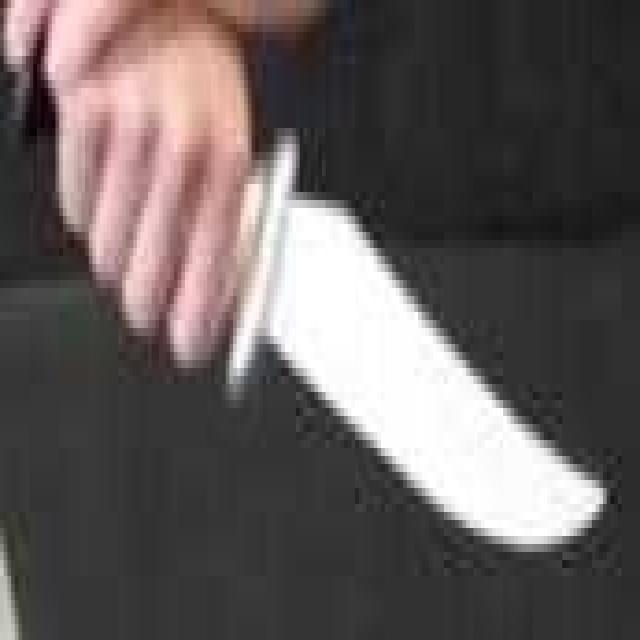knife: (165, 113, 615, 592)
